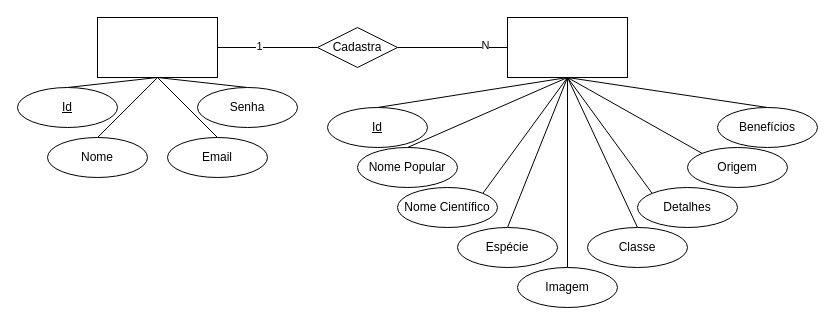
The diagram is 835 pixels wide and 325 high, and some of its shapes have lost their labels. The shapes that lost their labels are listed below. From the top down, each one's box as (x1, y1, x2, y2) in pixels, then its label:
(96, 16, 218, 78): Usuário
(506, 16, 628, 78): Planta
